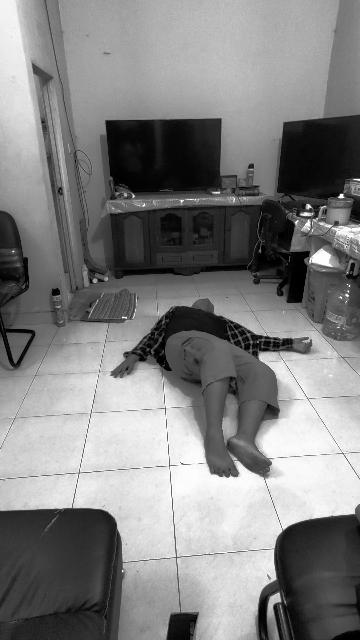jatuh: (111, 293, 315, 479)
